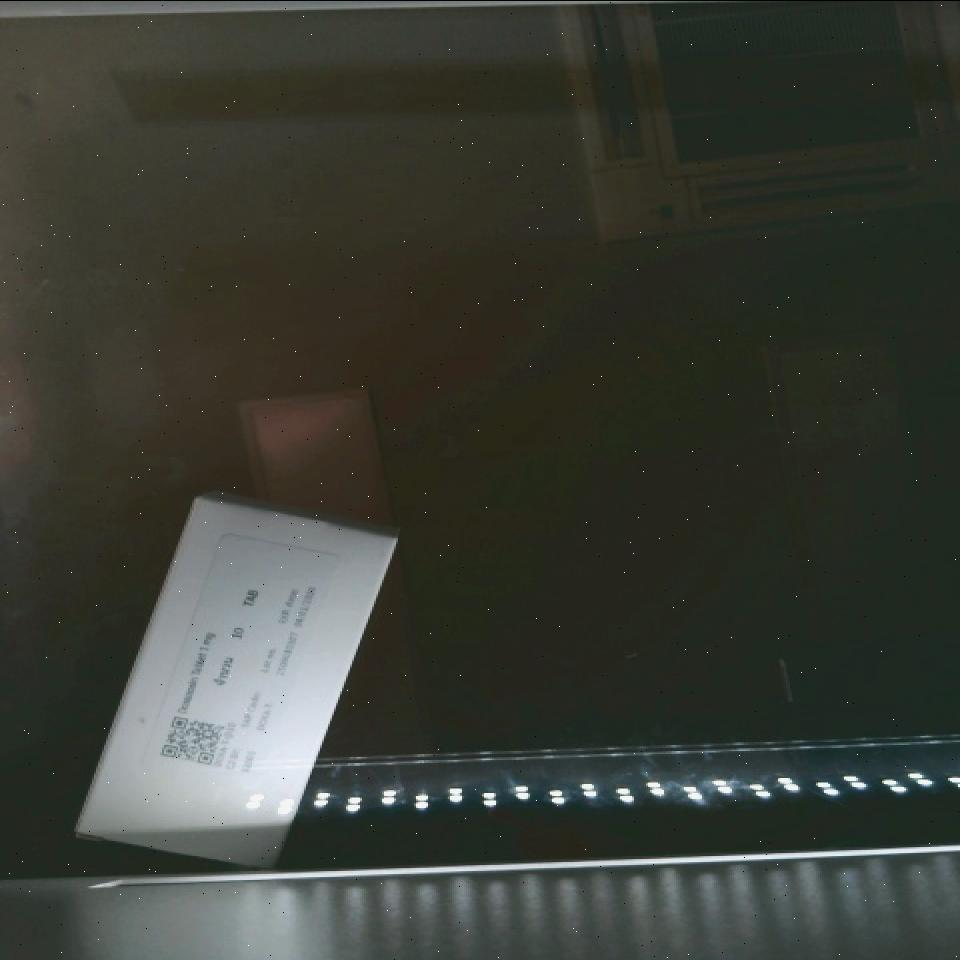medicine_box: (63, 464, 396, 899)
qr_code: (148, 700, 244, 783)
